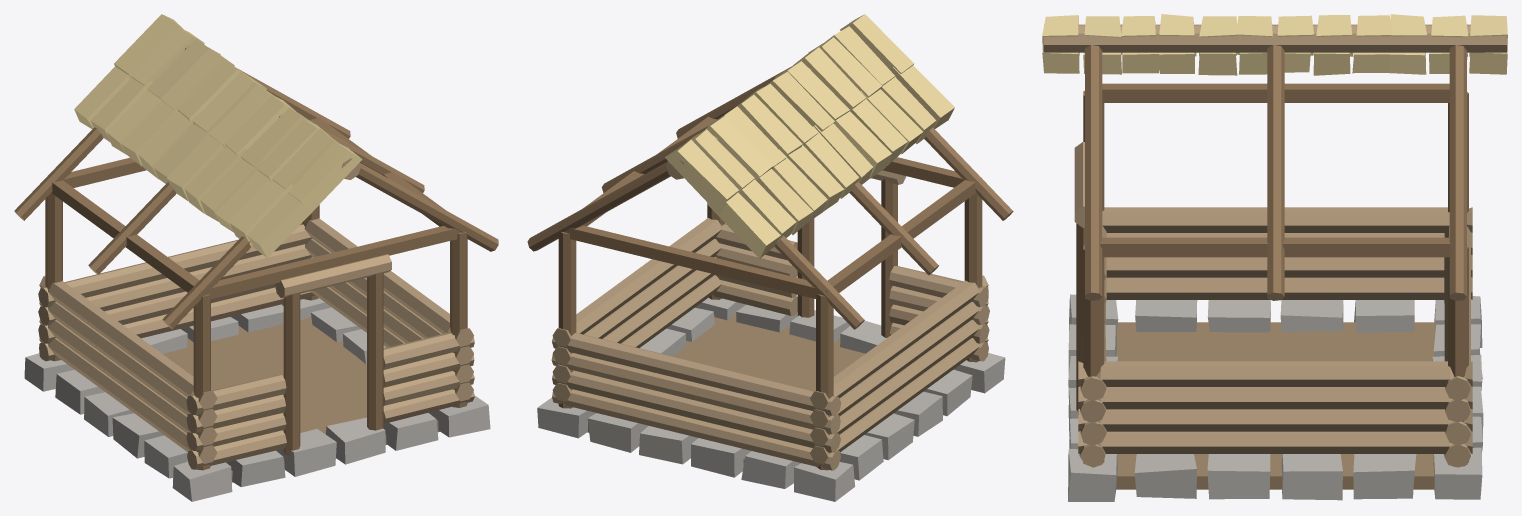
File: building_drying_shed_half.glb
The picture shows the model from 3 angles, left to right: view 1: azimuth 30°, elevation 25°; view 2: azimuth 150°, elevation 25°; view 3: azimuth 270°, elevation 25°; orthographic projection. The views are drawn at different scales.
Parts seen in each view (by area): view 1: building_drying_shed_half; view 2: building_drying_shed_half; view 3: building_drying_shed_half.
Part boxes in pixels (x1=…): building_drying_shed_half: x1=14, y1=14, x2=498, y2=501; building_drying_shed_half: x1=527, y1=14, x2=1013, y2=501; building_drying_shed_half: x1=1042, y1=14, x2=1507, y2=501.
Size of the model in its own units: 3.85 by 3.56 by 3.78.
